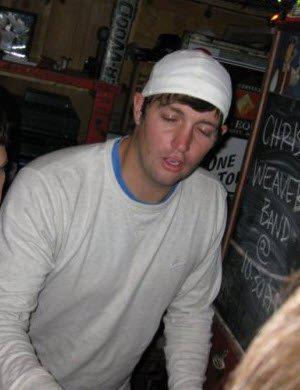Drunk: (144, 94, 223, 184)
